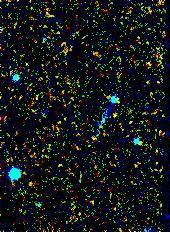star: (99, 103, 129, 133)
